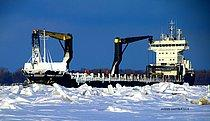Ship: (18, 15, 199, 92)
